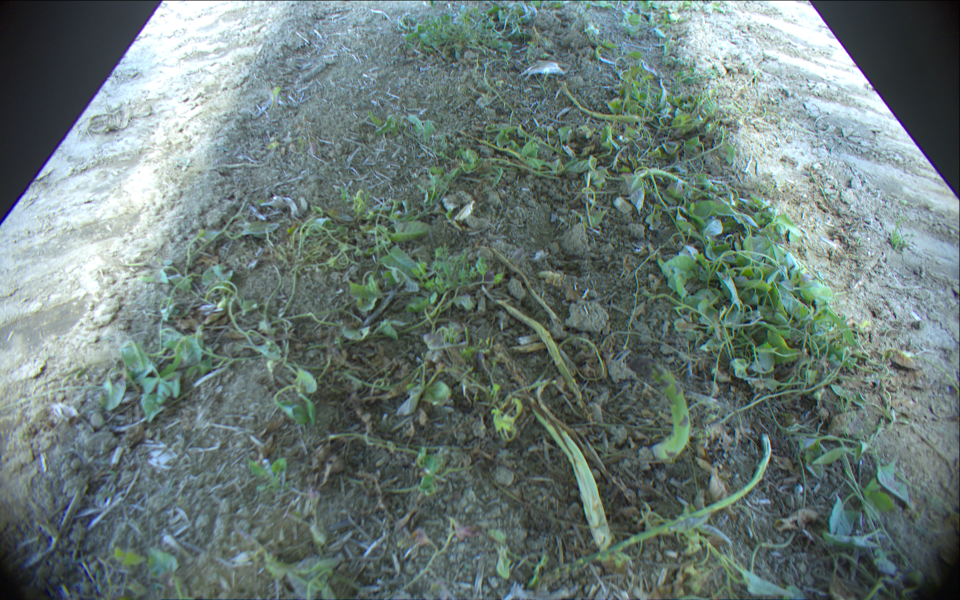aspa: (525, 434, 771, 589), (528, 403, 608, 546), (497, 299, 582, 397), (625, 358, 691, 465), (559, 82, 641, 122)
